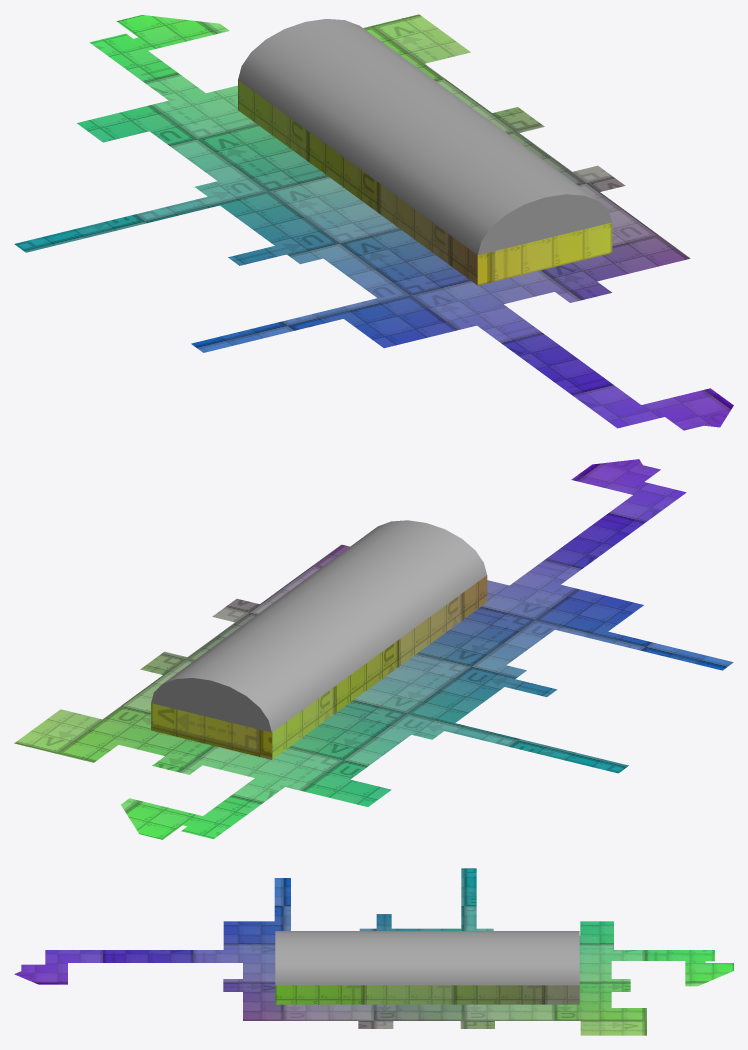
File: Floor7Roof.fbx
3 renders of one model, top to bottom at view 1: azimuth 30°, elevation 25°; view 2: azimuth 150°, elevation 25°; view 3: azimuth 270°, elevation 25°, orthographic. The views are drawn at different scales.
Visible parts, largest first — view 1: Floor7Roof; view 2: Floor7Roof; view 3: Floor7Roof.
Boxes of the visible parts, x1,y1,x2,y2 form: Floor7Roof: (14,14,733,430); Floor7Roof: (14,459,733,839); Floor7Roof: (14,868,733,1035).
Bounding box in the file's own units: 1318 × 168 × 2401.
